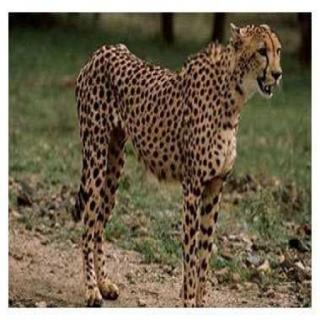Leopard: (49, 14, 288, 290)
